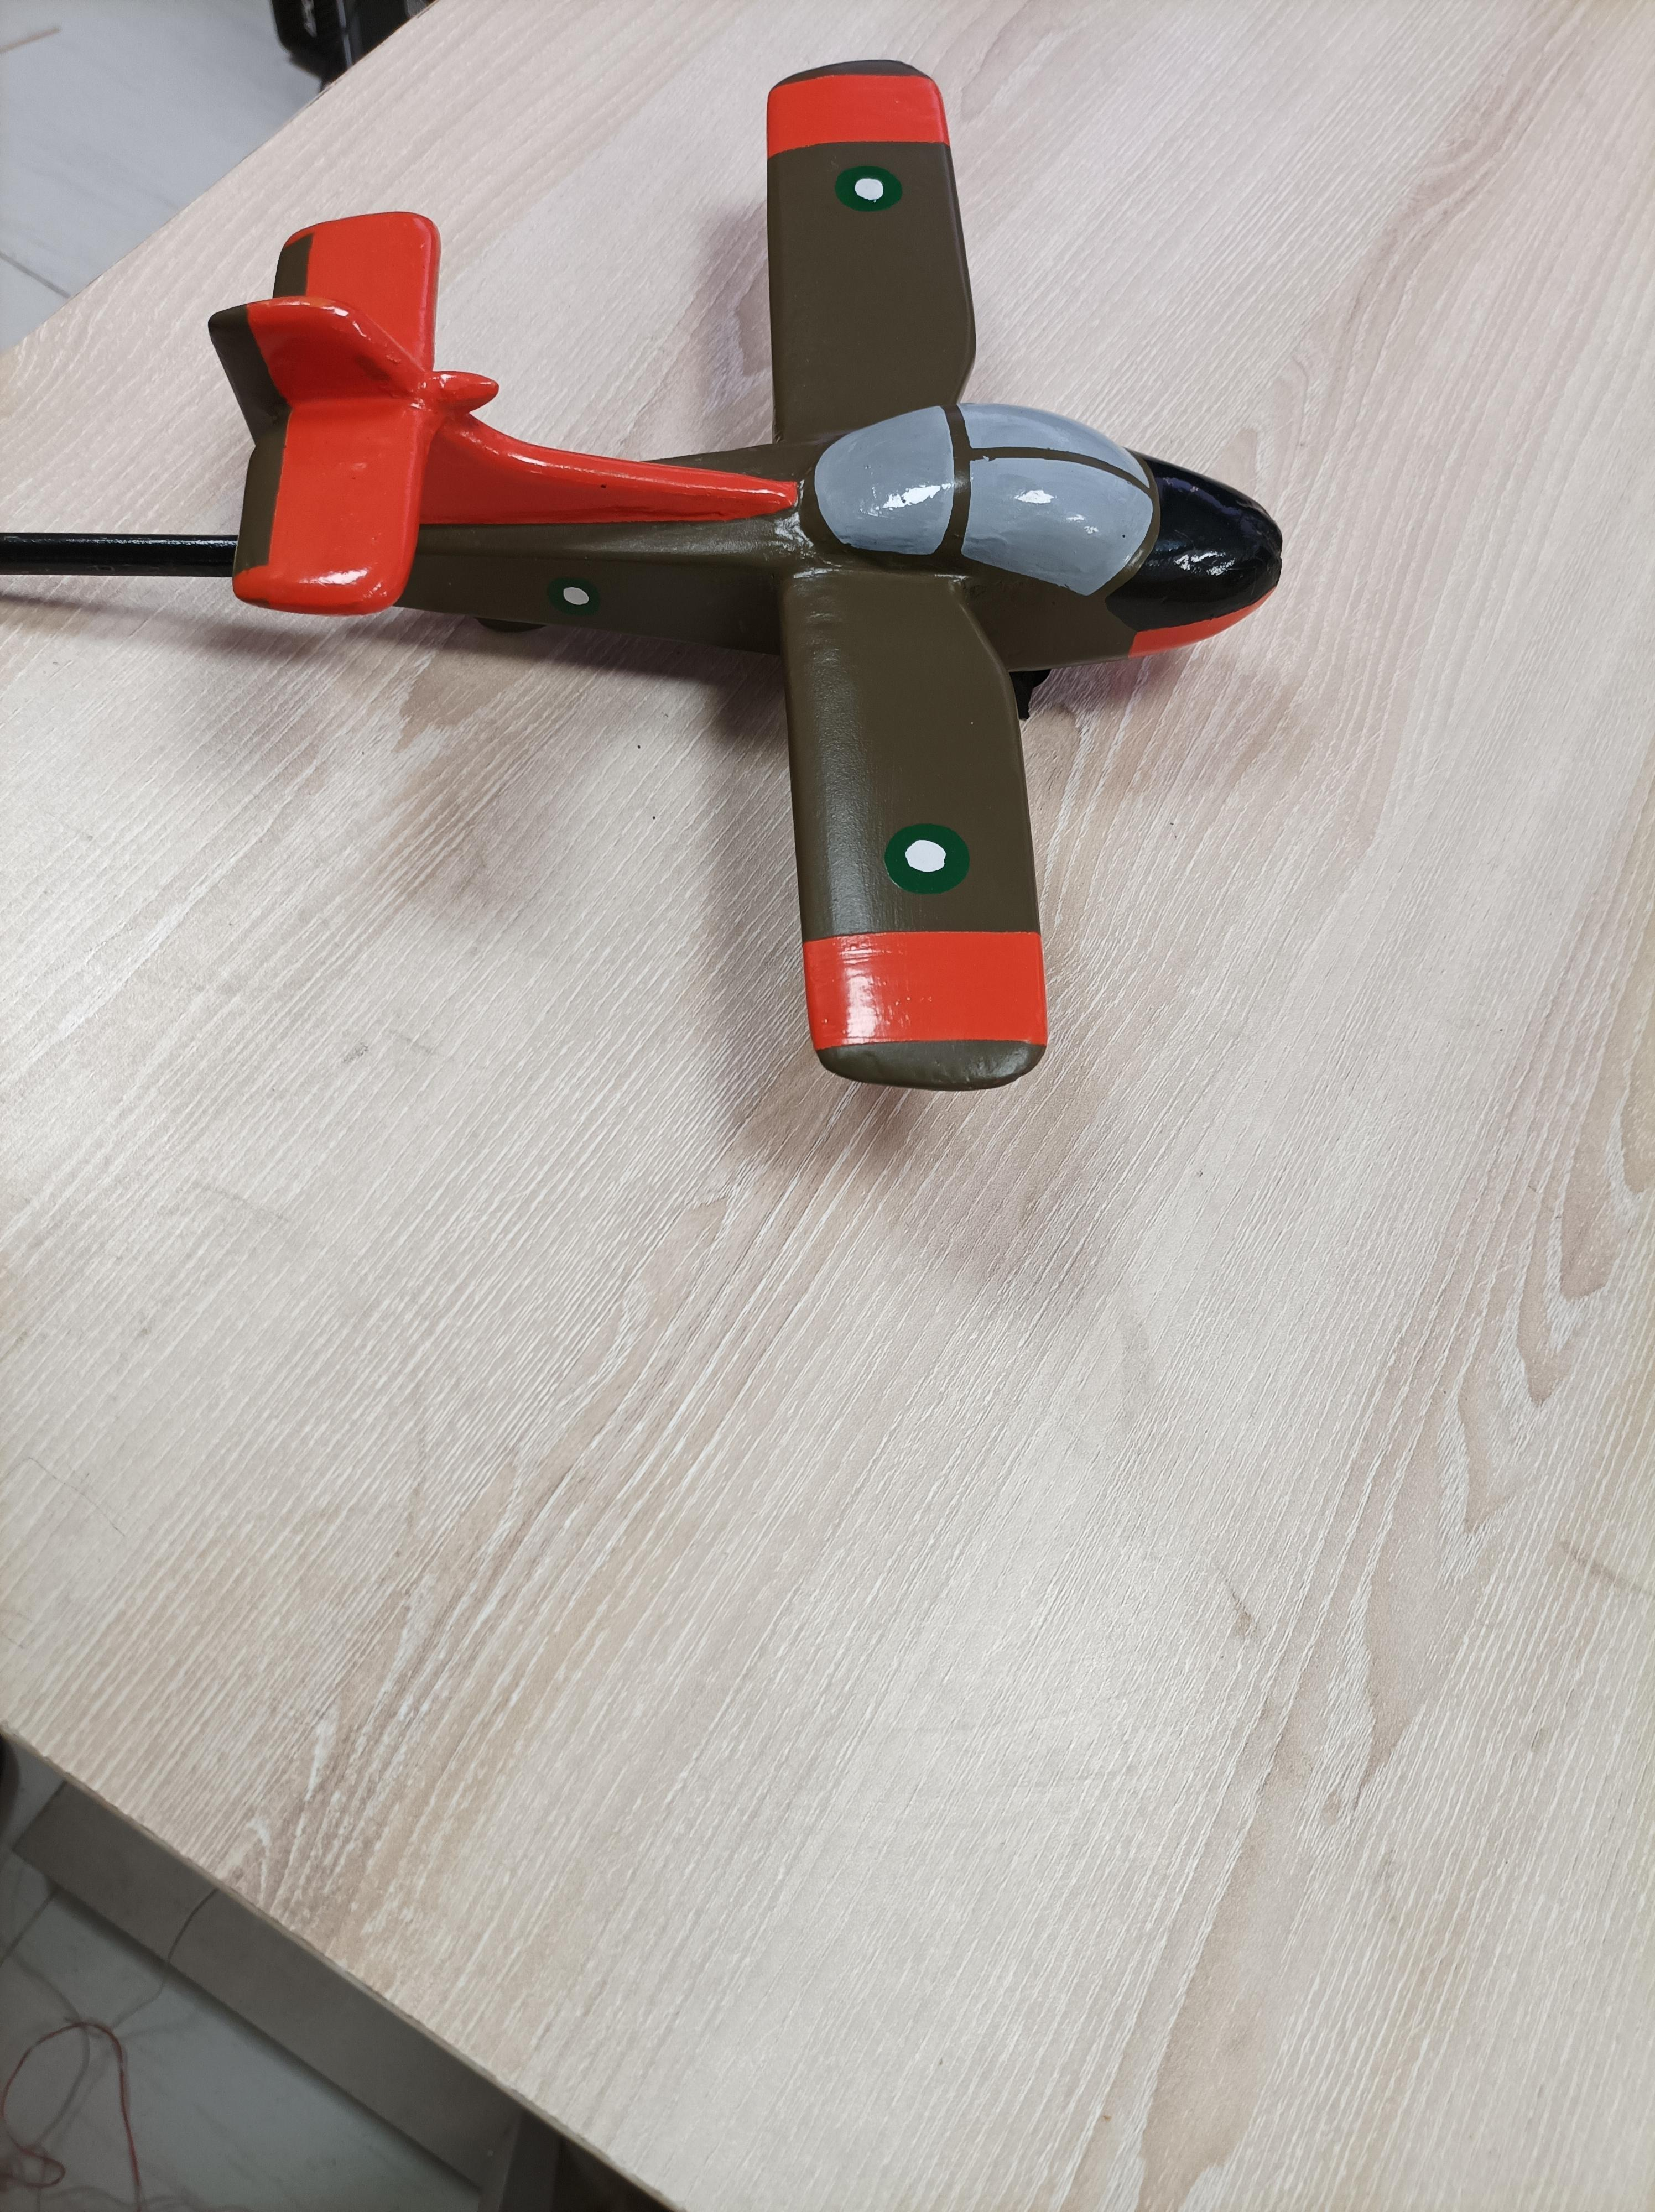Airplane: (207, 47, 1297, 1103)
